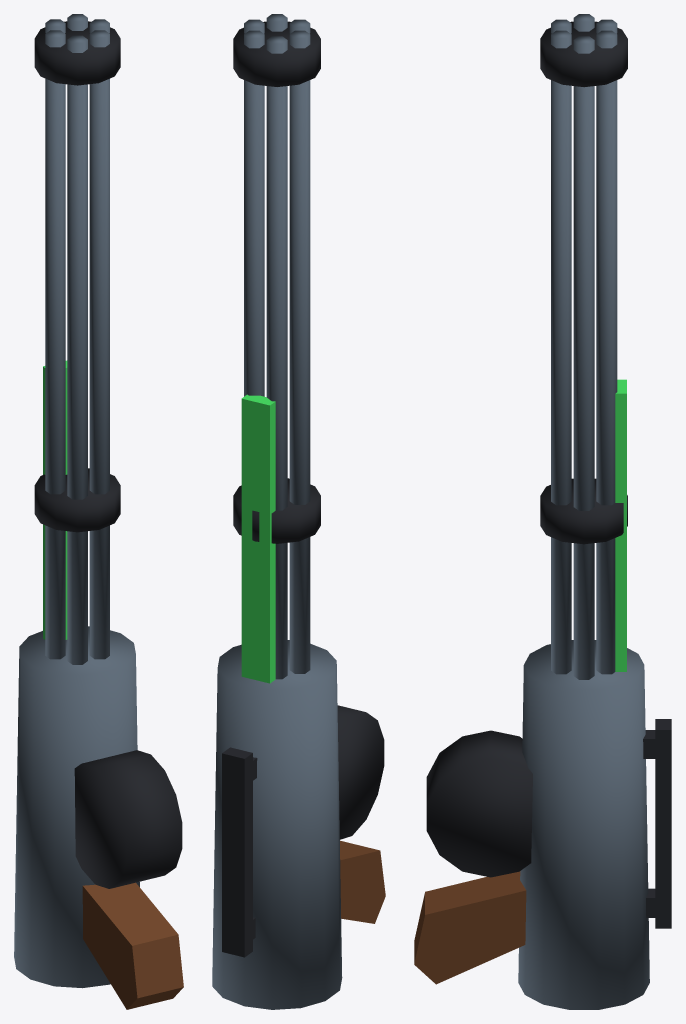
Rendered from laser_machinegun.glb.
3 renders of one model, left to right at view 1: azimuth 30°, elevation 25°; view 2: azimuth 150°, elevation 25°; view 3: azimuth 270°, elevation 25°, orthographic. The views are drawn at different scales.
Parts seen in each view (by area): view 1: laser_machinegun_v0; view 2: laser_machinegun_v0; view 3: laser_machinegun_v0.
Boxes of the visible parts, left/top/right/bottom form: laser_machinegun_v0: left=14, top=14, right=183, bottom=1009; laser_machinegun_v0: left=212, top=14, right=385, bottom=1009; laser_machinegun_v0: left=414, top=14, right=671, bottom=1009.
Bounding box in the file's own units: 0.117 × 0.96 × 0.235.
